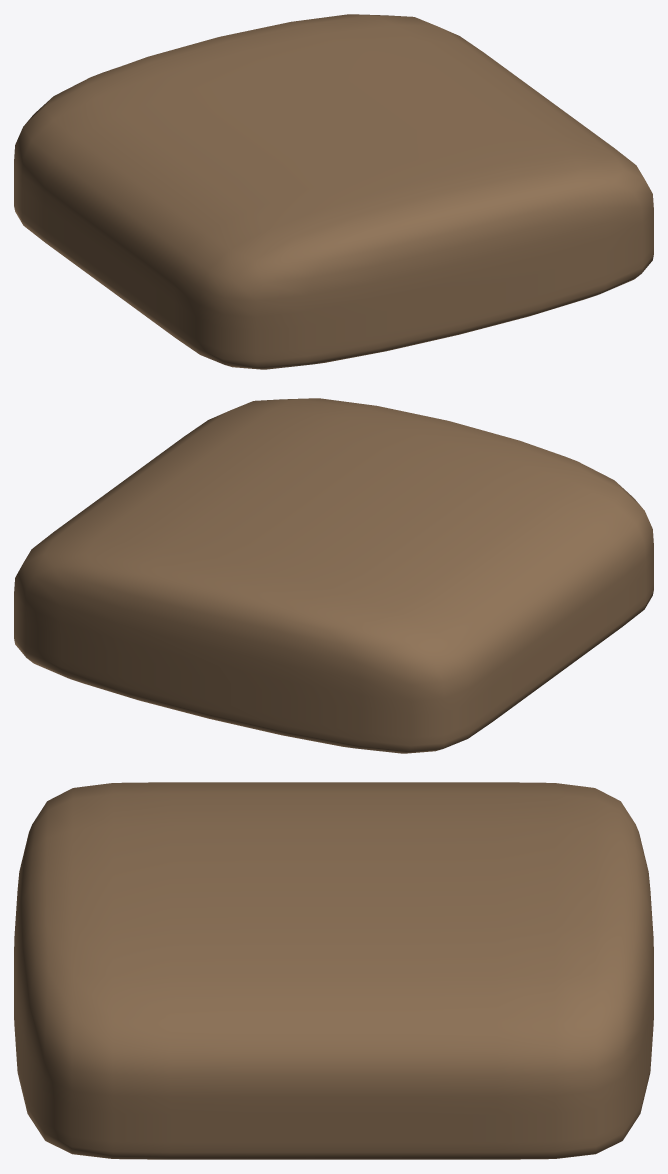
The model's file is Bantal Lesehan.fbx.
3 renders of one model, top to bottom at view 1: azimuth 30°, elevation 25°; view 2: azimuth 150°, elevation 25°; view 3: azimuth 270°, elevation 25°, orthographic. The views are drawn at different scales.
Visible parts, largest first — view 1: Meja.001; view 2: Meja.001; view 3: Meja.001.
Part boxes in pixels (x1,y1,x2,y2): Meja.001: [14, 14, 653, 369]; Meja.001: [14, 398, 653, 753]; Meja.001: [14, 782, 653, 1159].
Size of the model in its own units: 146 by 40.56 by 144.
